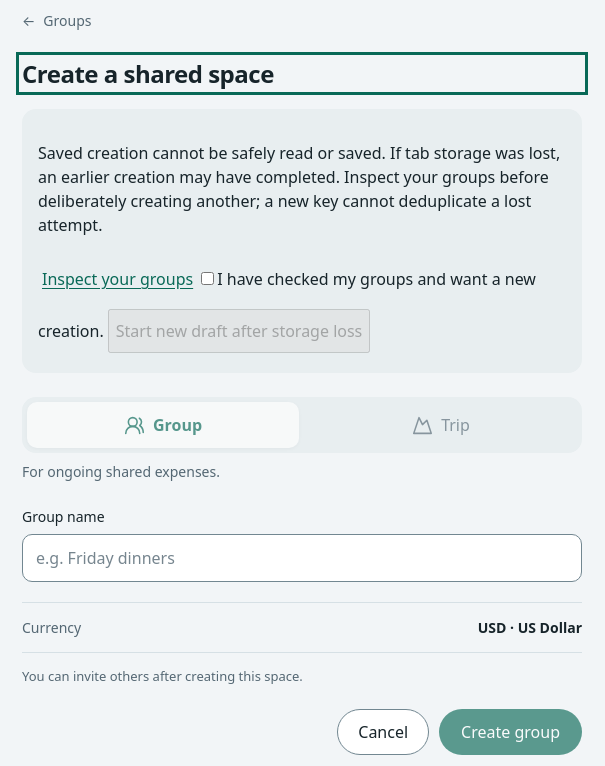
Test: blocks corrupted storage and offers inspection before explicit new creation
The image size is (605, 766).
Check: the element that starts with "Group" is disabled, box [22,397,582,755]
Click the checkbox labelled "I have checked my groups and want a new creation.".
click(208, 279)  # box [201,272,214,285]
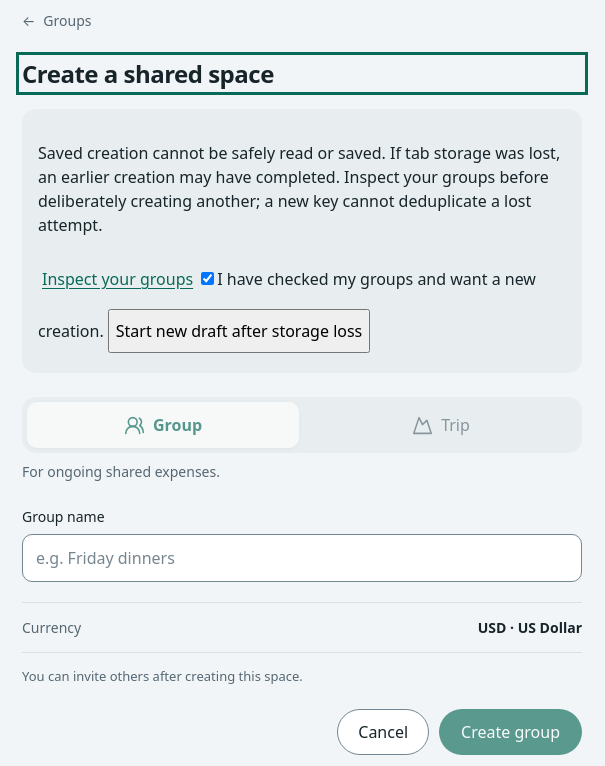
Click the button "Start new draft after storage loss".
click(239, 331)  # box [108,309,370,353]
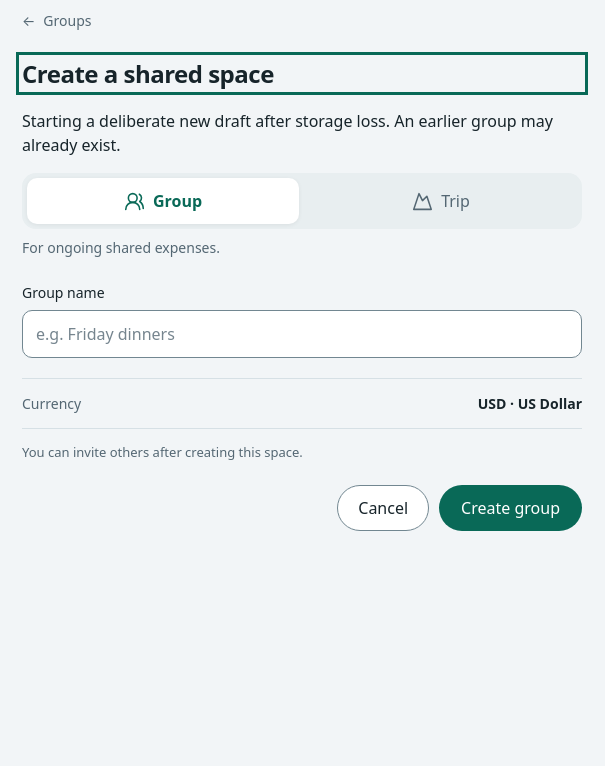
Check: the element that starts with "Group" is enabled, box [22,173,582,531]
